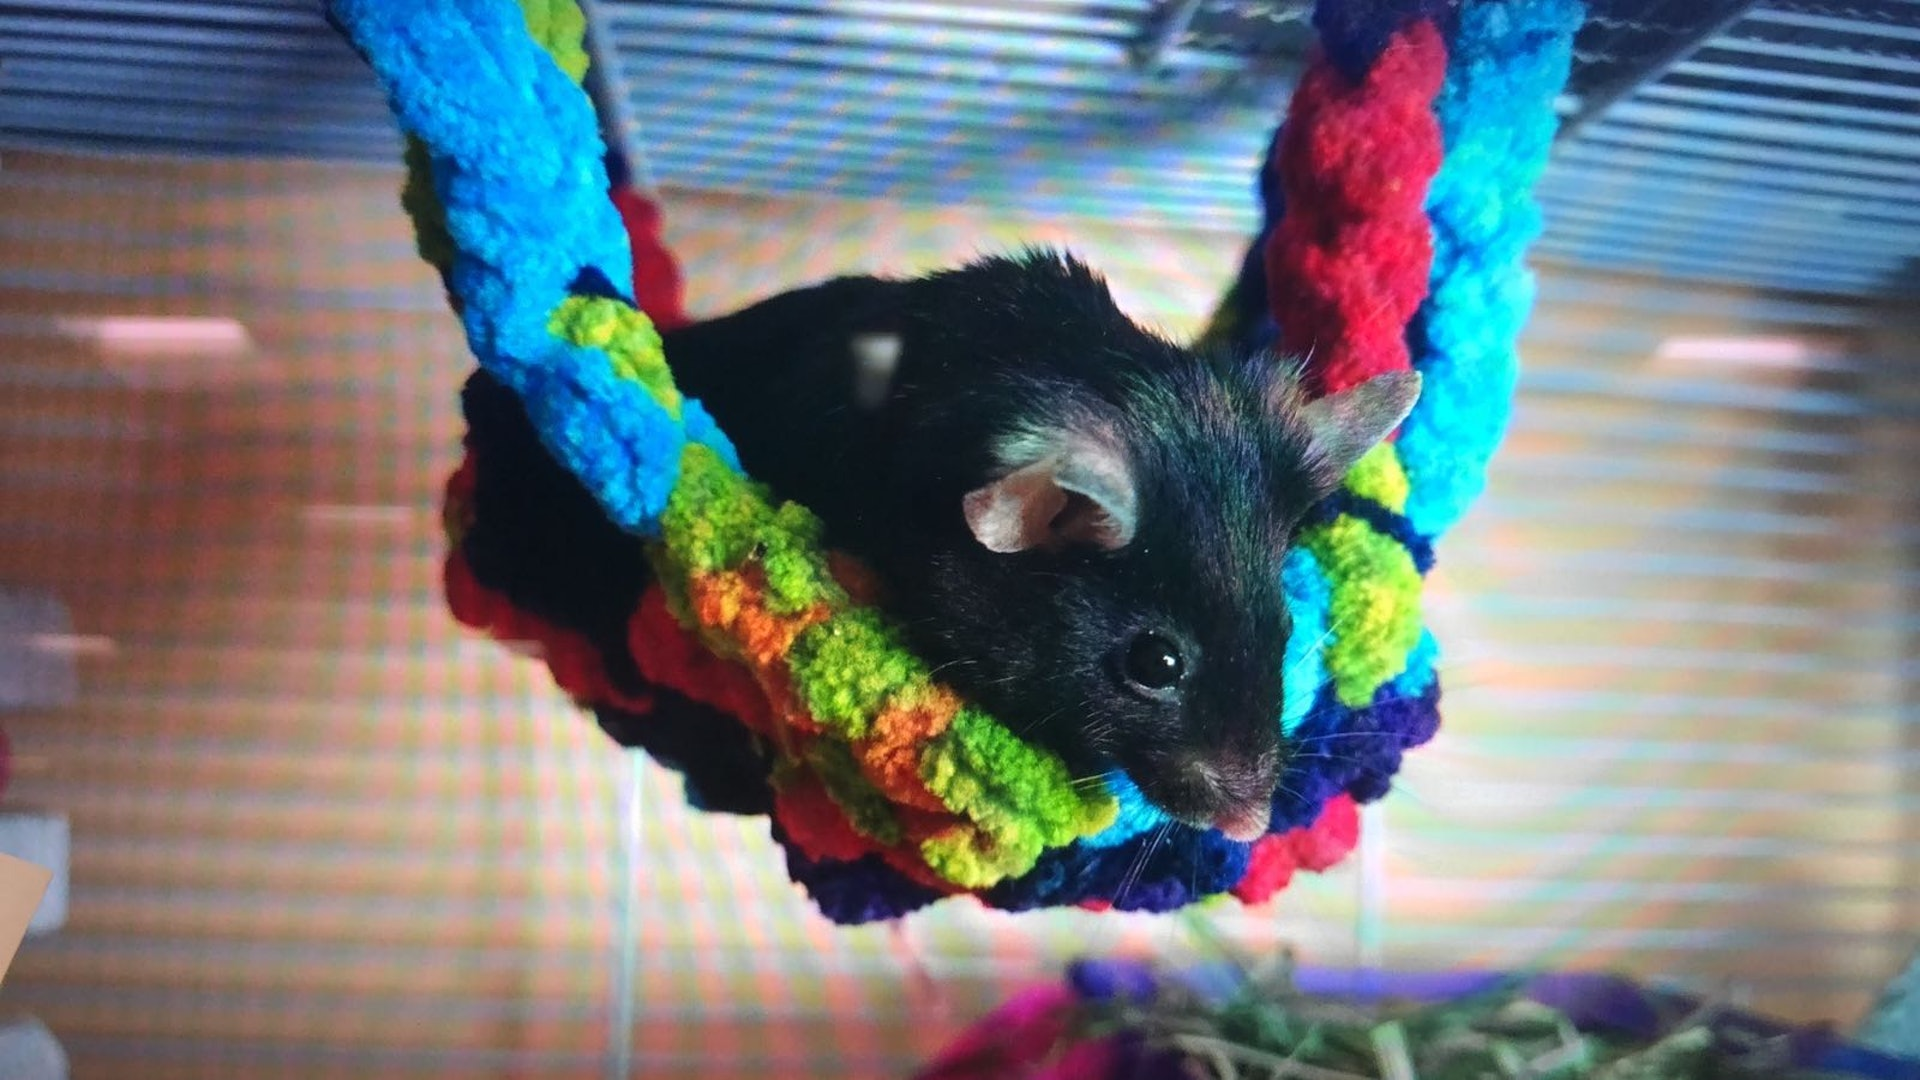mouse: (669, 264, 1429, 843)
